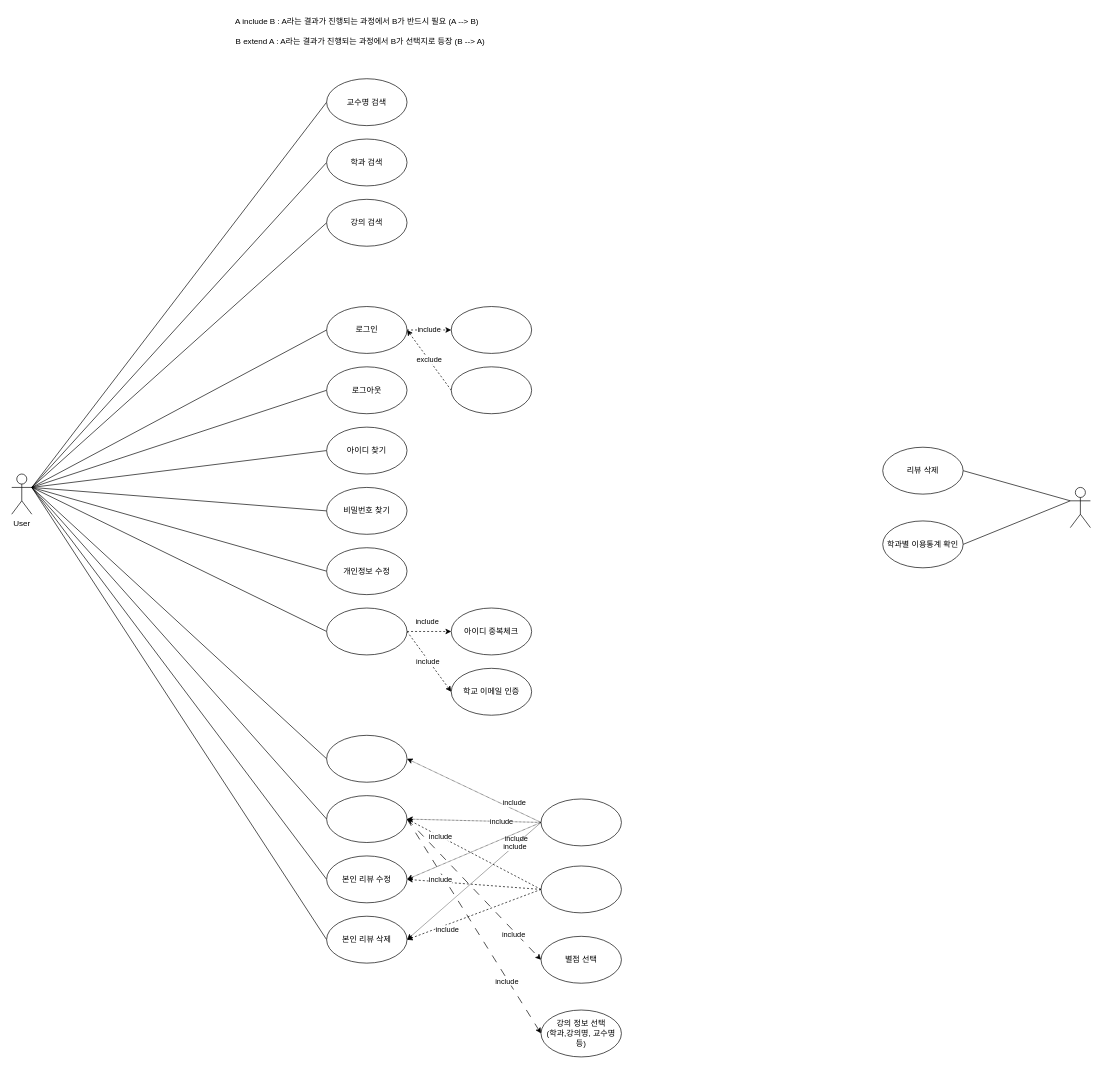
Image size: 1115x1069. Some labels were removed from this diagram. The centre of each missing label's shape, as x and y in pixels:
administrator: point 1080,507
로그인 실패: point 491,390
리뷰 작성: point 366,819
리뷰 좋아요 버튼 클릭: point 366,758
별점 평균 업데이트: point 580,889
인증: point 491,329
타임라인 게시: point 580,822
회원가입: point 366,631
